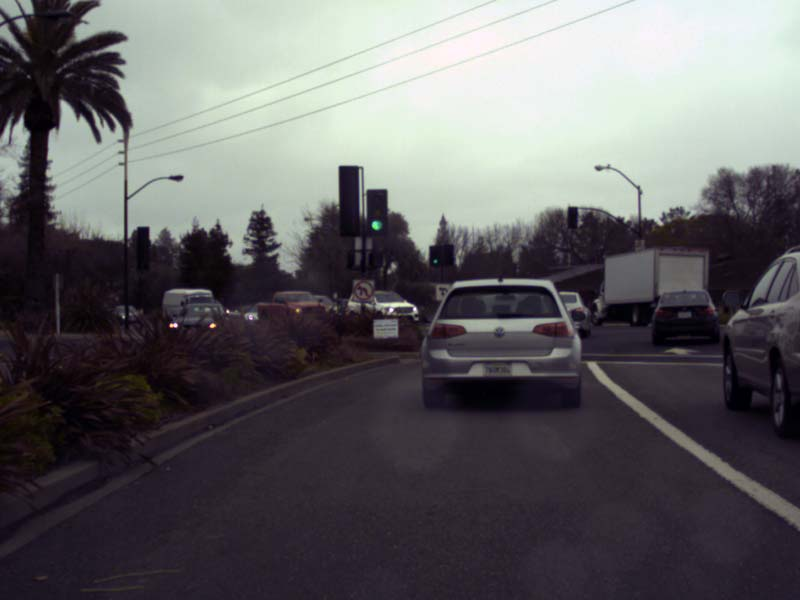Green: (367, 189, 387, 234), (429, 246, 442, 266)
Red: (568, 206, 577, 227), (443, 245, 452, 264)
